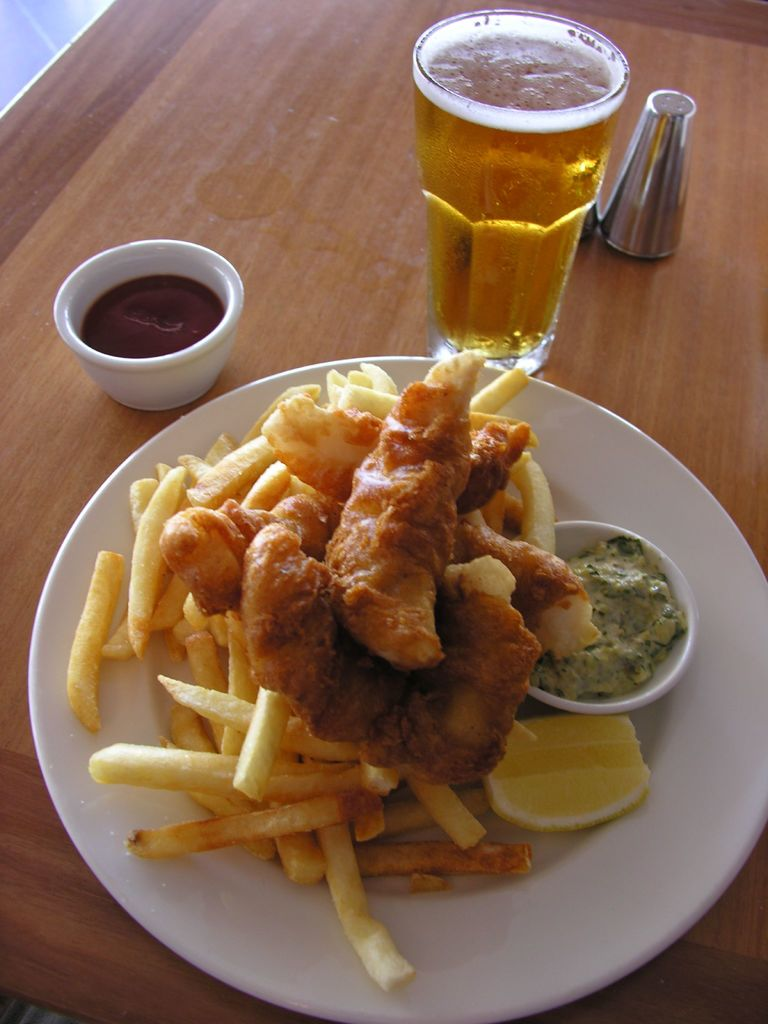French fries: (104, 464, 607, 930)
